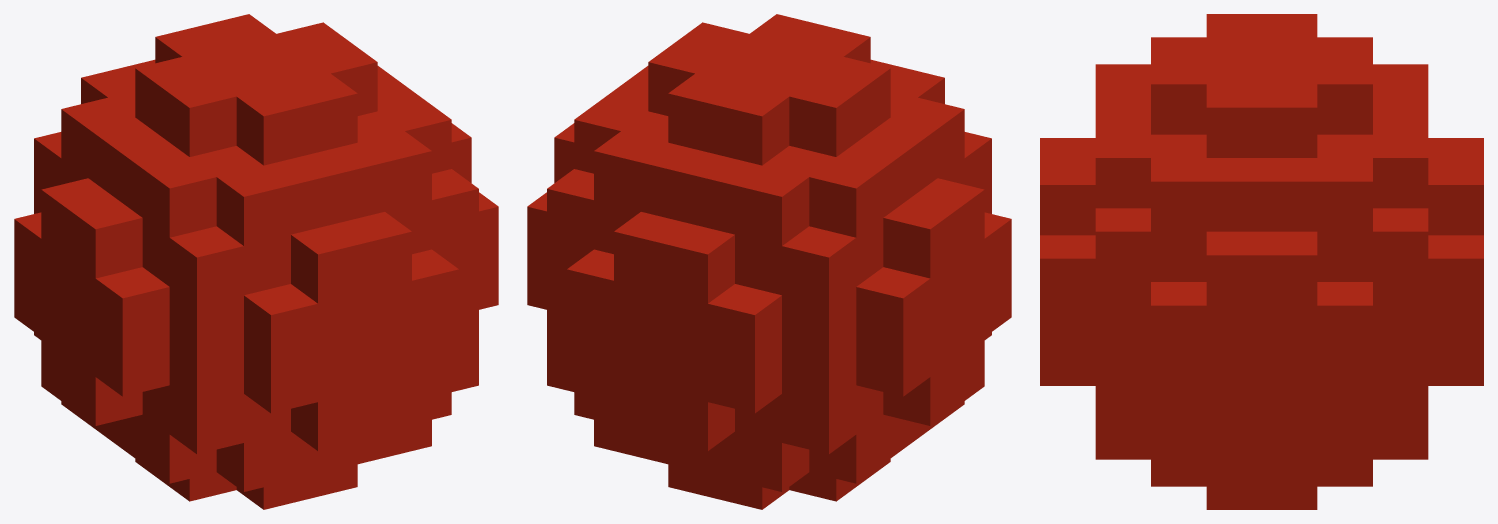
Rendered from berry_3.glb.
The picture shows the model from 3 angles, left to right: view 1: azimuth 30°, elevation 25°; view 2: azimuth 150°, elevation 25°; view 3: azimuth 270°, elevation 25°; orthographic projection. The views are drawn at different scales.
Parts seen in each view (by area): view 1: Untitled; view 2: Untitled; view 3: Untitled.
Boxes of the visible parts, x1=… form: Untitled: x1=14, y1=14, x2=498, y2=509; Untitled: x1=527, y1=14, x2=1011, y2=509; Untitled: x1=1040, y1=14, x2=1483, y2=509.
Bounding box in the file's own units: 0.3 × 0.3 × 0.3.
Materials: 1 (1 with a texture image).
